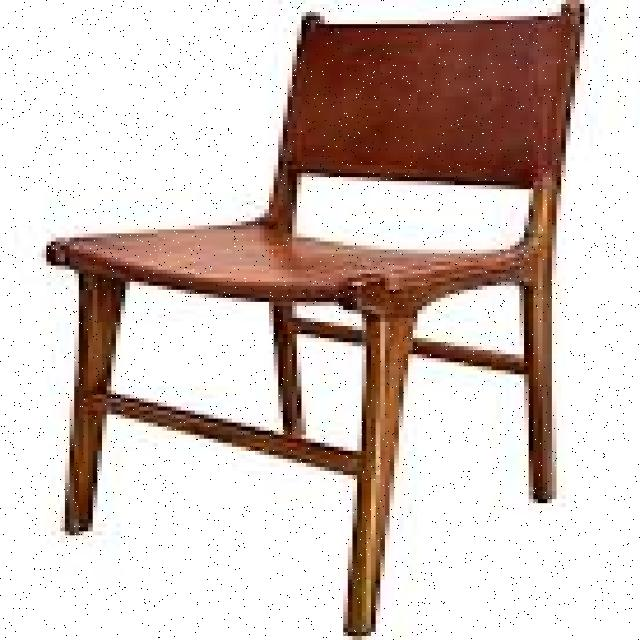bottle: (43, 0, 592, 632)
